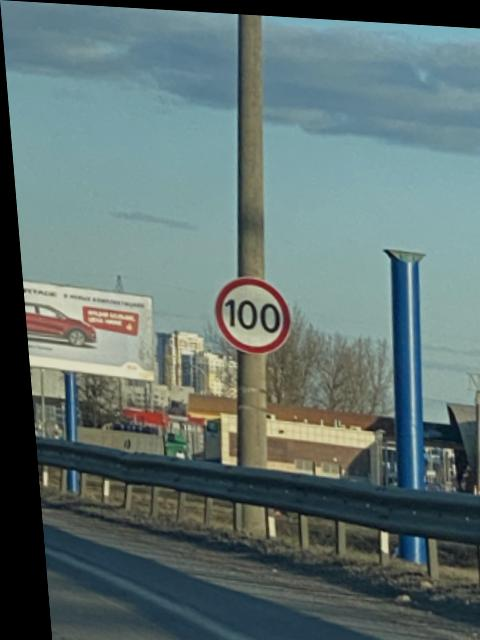limit100: (206, 268, 293, 358)
